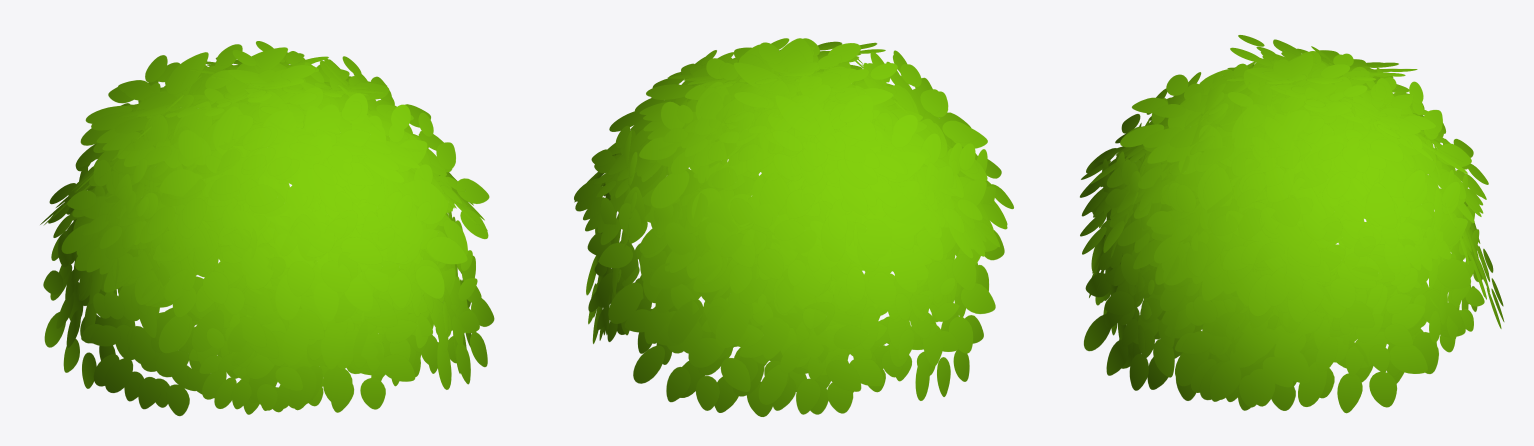
The model's file is SmallBush.glb.
3 views of the same model, side by side, from view 1: azimuth 30°, elevation 25°; view 2: azimuth 150°, elevation 25°; view 3: azimuth 270°, elevation 25° (orthographic). The views are drawn at different scales.
Parts seen in each view (by area): view 1: Bush; view 2: Bush; view 3: Bush.
Boxes of the visible parts, bbox=[...] form: Bush: bbox=[40, 41, 494, 416]; Bush: bbox=[574, 38, 1013, 416]; Bush: bbox=[1080, 35, 1504, 413].
Bounding box in the file's own units: 1.09 × 0.6916 × 1.05.
Materials: 1 (1 with a texture image).
